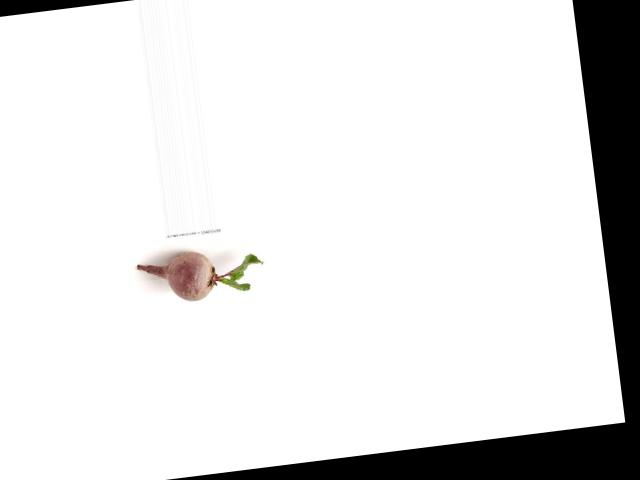beet: (137, 242, 267, 306)
